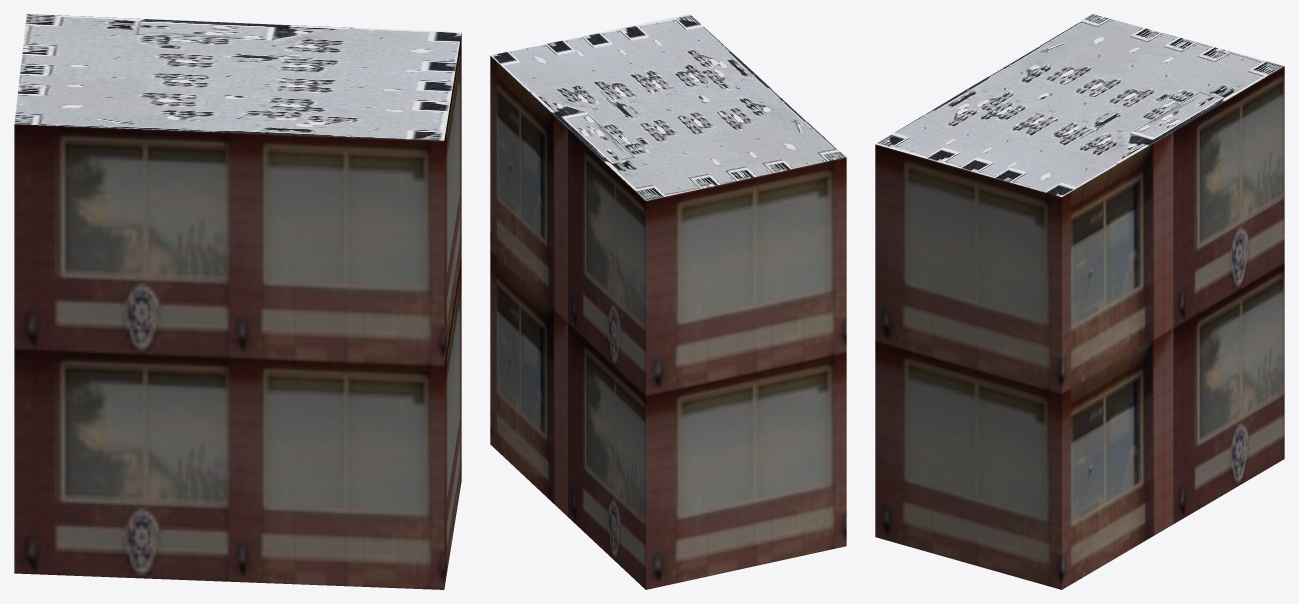
Rendered from ResTex__1882.fbx.
3 views of the same model, side by side, from view 1: azimuth 30°, elevation 25°; view 2: azimuth 150°, elevation 25°; view 3: azimuth 270°, elevation 25° (orthographic). The views are drawn at different scales.
Visible parts, largest first — view 1: CityEngineMaterial_13_m, CityEngineMaterial_4_m; view 2: CityEngineMaterial_13_m, CityEngineMaterial_4_m; view 3: CityEngineMaterial_13_m, CityEngineMaterial_4_m.
Part boxes in pixels (x1=…): CityEngineMaterial_13_m: x1=14, y1=33, x2=461, y2=589; CityEngineMaterial_4_m: x1=14, y1=14, x2=461, y2=140; CityEngineMaterial_13_m: x1=490, y1=56, x2=846, y2=589; CityEngineMaterial_4_m: x1=490, y1=14, x2=846, y2=200; CityEngineMaterial_13_m: x1=875, y1=66, x2=1284, y2=589; CityEngineMaterial_4_m: x1=875, y1=14, x2=1284, y2=196.
Bounding box in the file's own units: 6 × 6 × 5.67.
2 materials, 2 textured.
